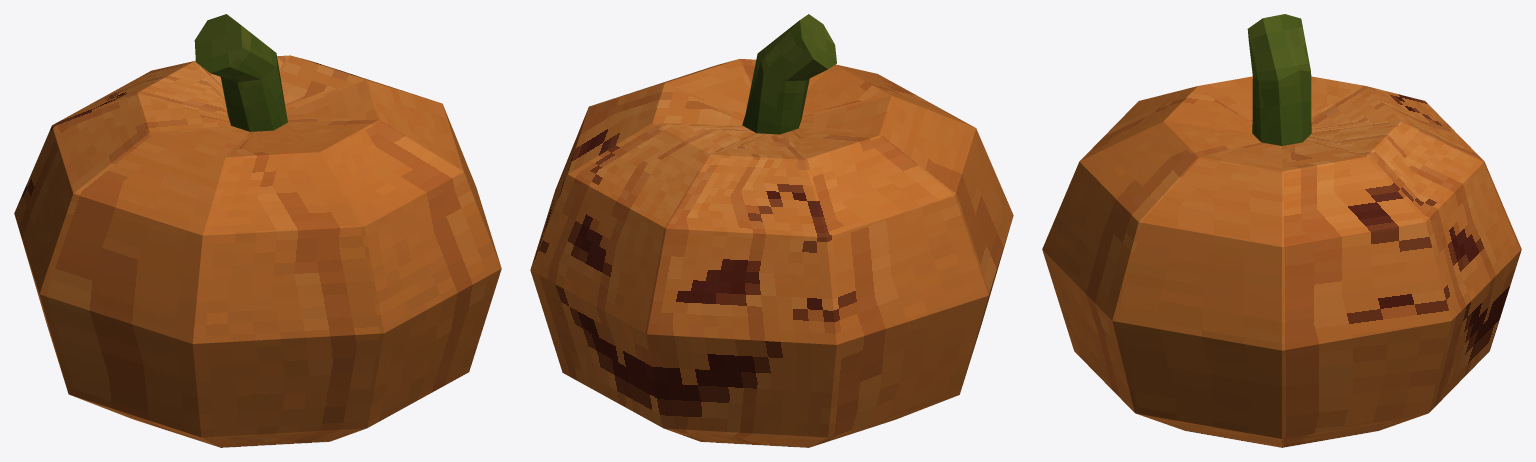
File: Seeker_Pumpki (2).fbx
The picture shows the model from 3 angles, left to right: view 1: azimuth 30°, elevation 25°; view 2: azimuth 150°, elevation 25°; view 3: azimuth 270°, elevation 25°; orthographic projection. The views are drawn at different scales.
Parts seen in each view (by area): view 1: Cylinder; view 2: Cylinder; view 3: Cylinder.
Boxes of the visible parts, left/top/right/bottom form: Cylinder: left=14, top=14, right=501, bottom=447; Cylinder: left=530, top=14, right=1013, bottom=447; Cylinder: left=1042, top=14, right=1521, bottom=447.
Bounding box in the file's own units: 231 × 193 × 231.
